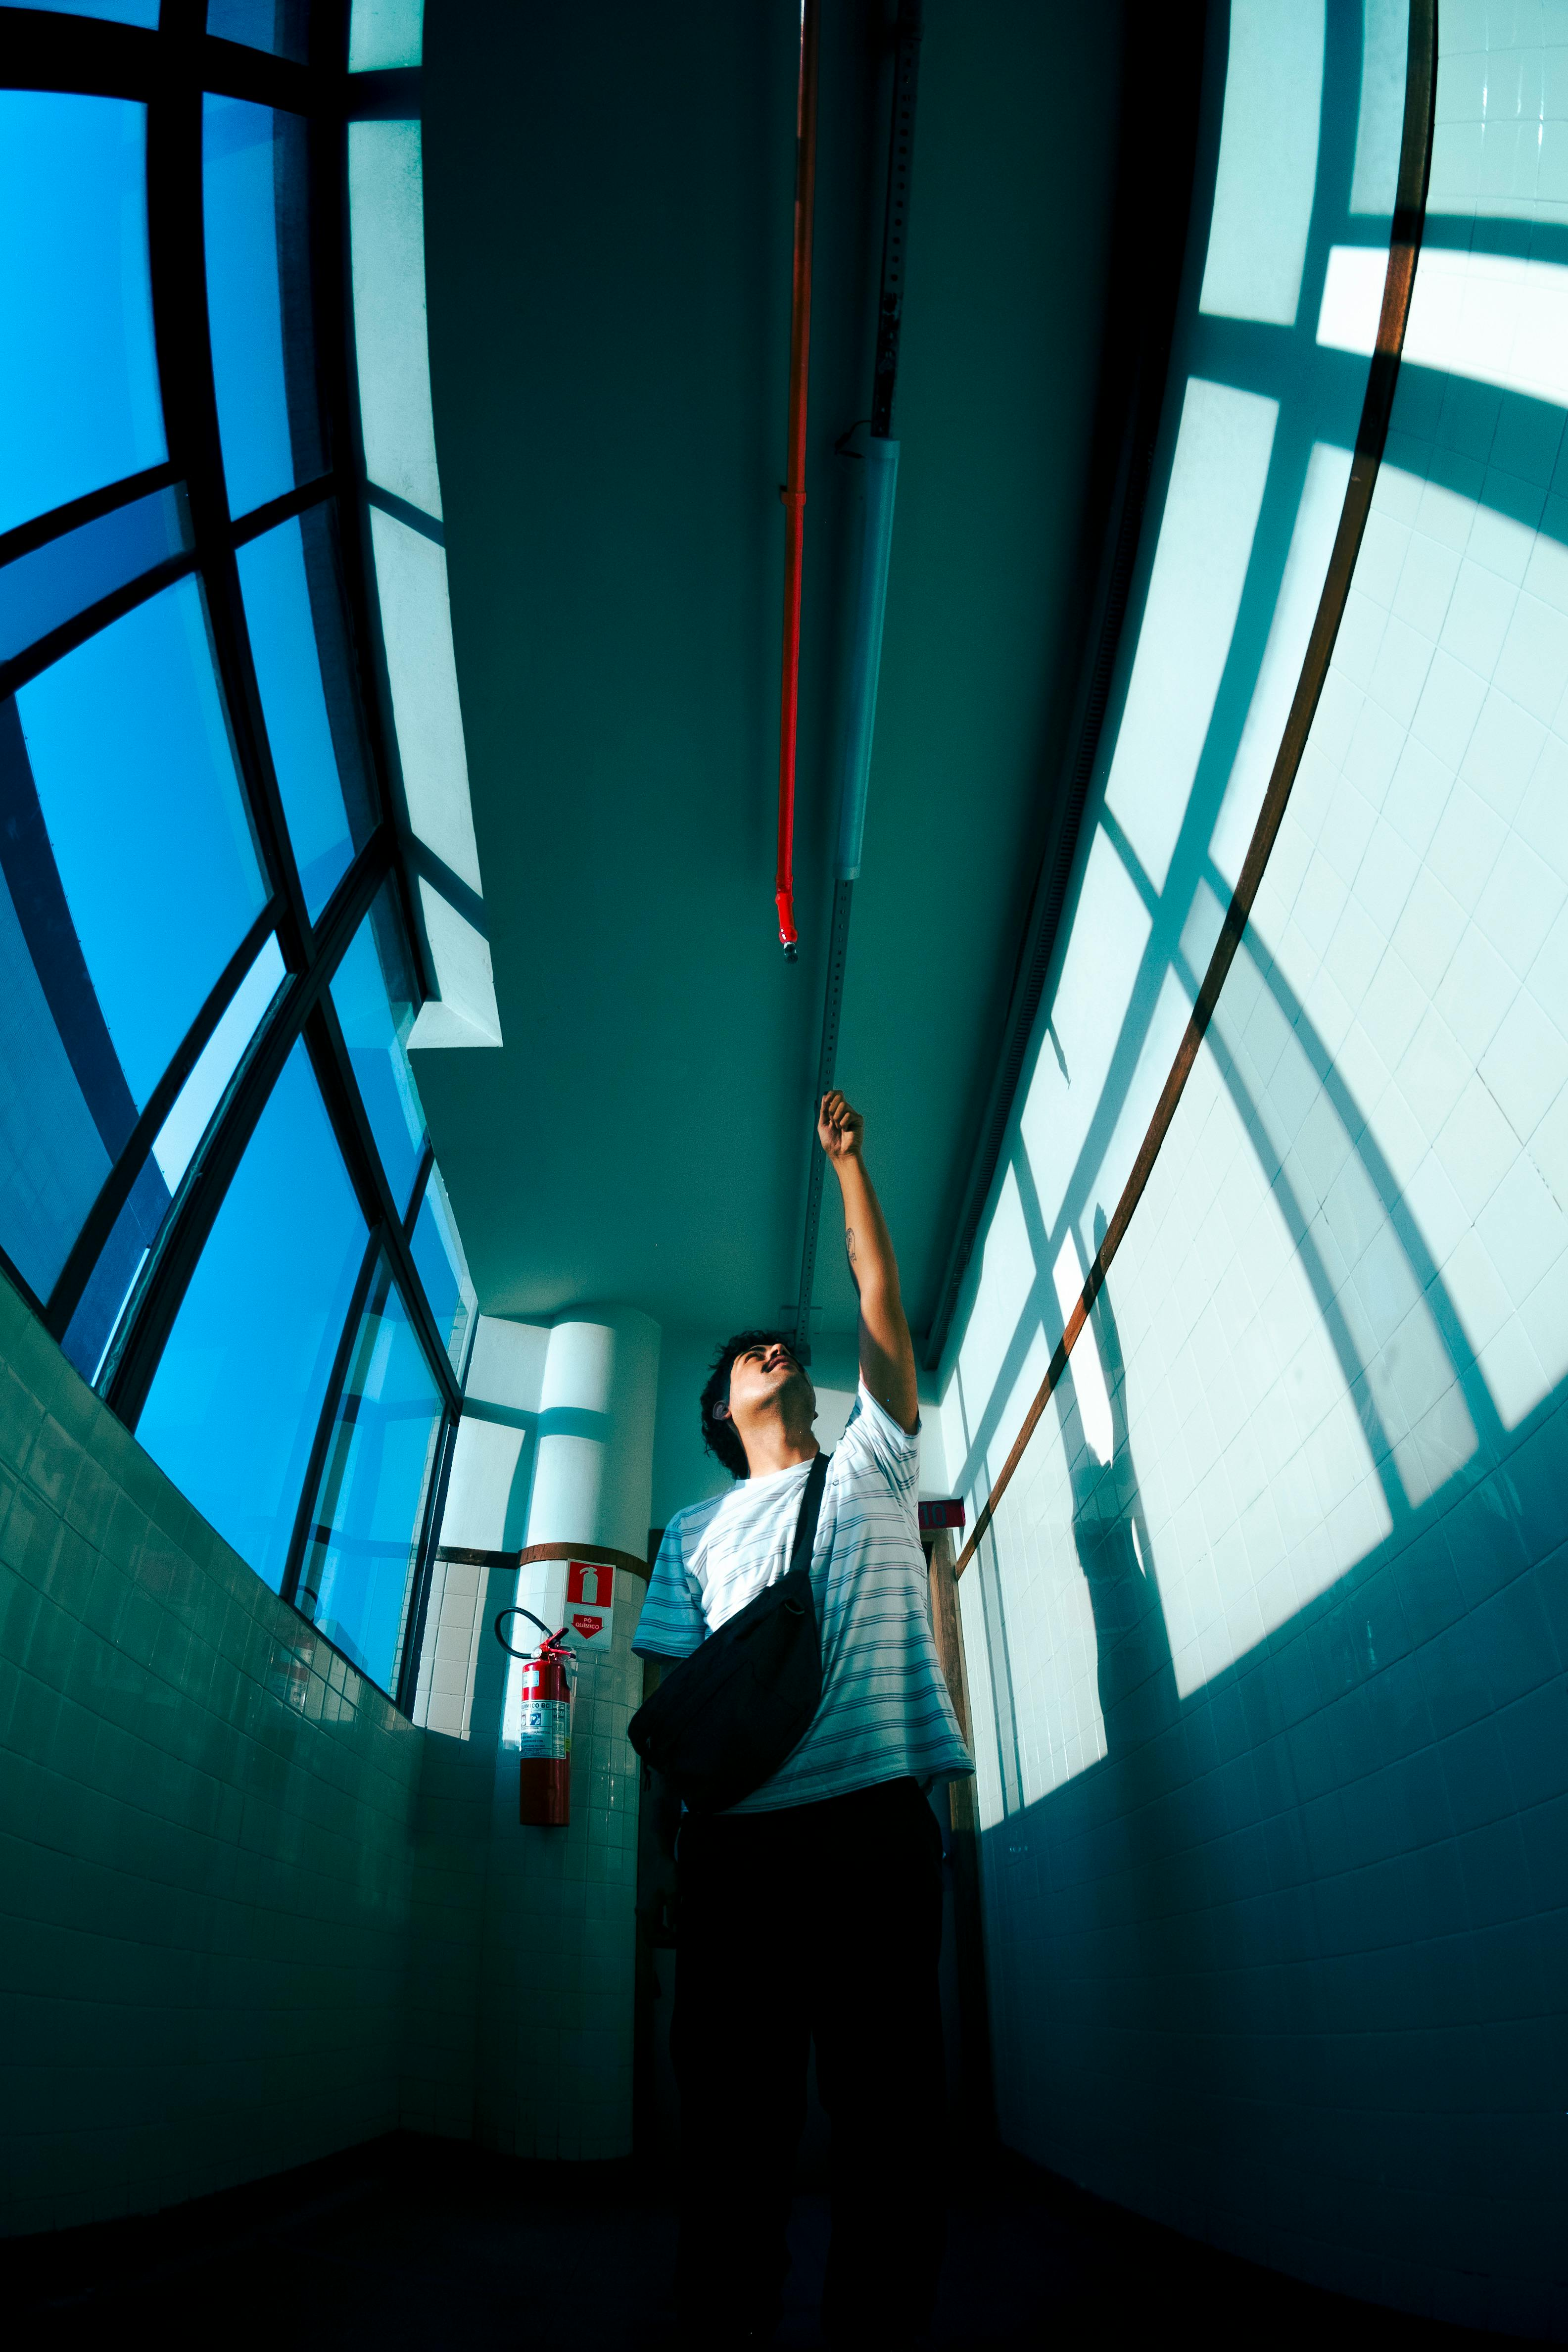extintor: (485, 1601, 588, 1841)
